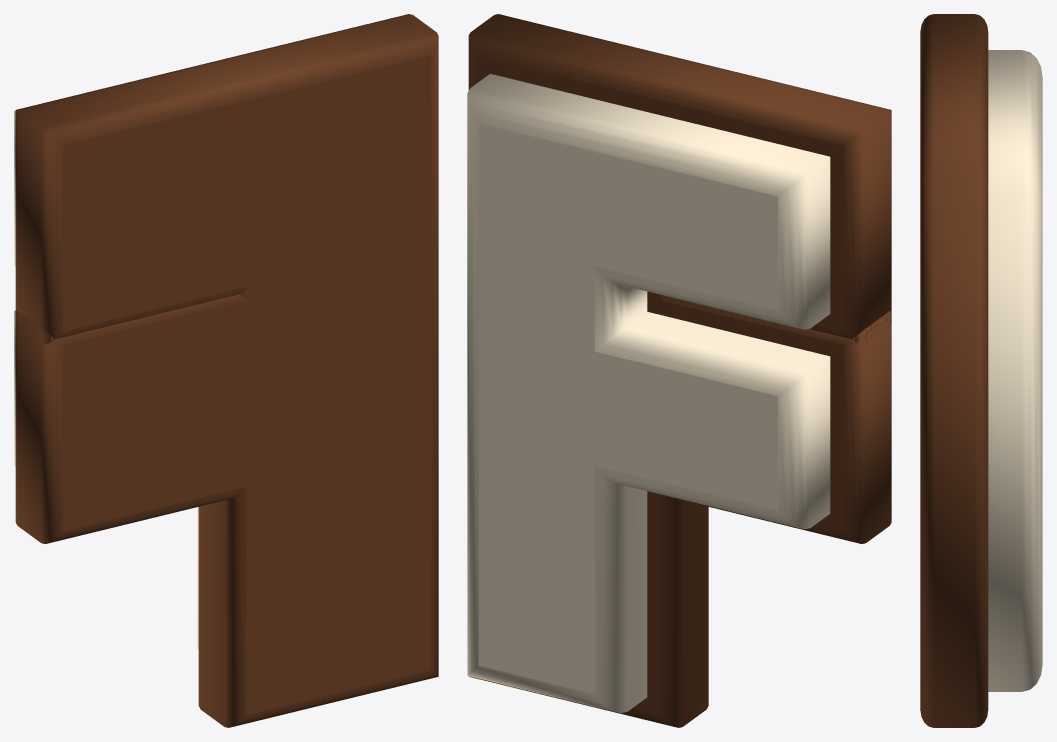
File: Letter_F.fbx
3 renders of one model, left to right at view 1: azimuth 30°, elevation 25°; view 2: azimuth 150°, elevation 25°; view 3: azimuth 270°, elevation 25°, orthographic. The views are drawn at different scales.
Parts seen in each view (by area): view 1: Letter_F; view 2: Letter_F; view 3: Letter_F.
Boxes of the visible parts, x1,y1,x2,y2 form: Letter_F: [14, 14, 438, 727]; Letter_F: [467, 14, 891, 727]; Letter_F: [920, 14, 1042, 727].
Bounding box in the file's own units: 0.574 × 0.892 × 0.18.
1 material, 1 textured.
